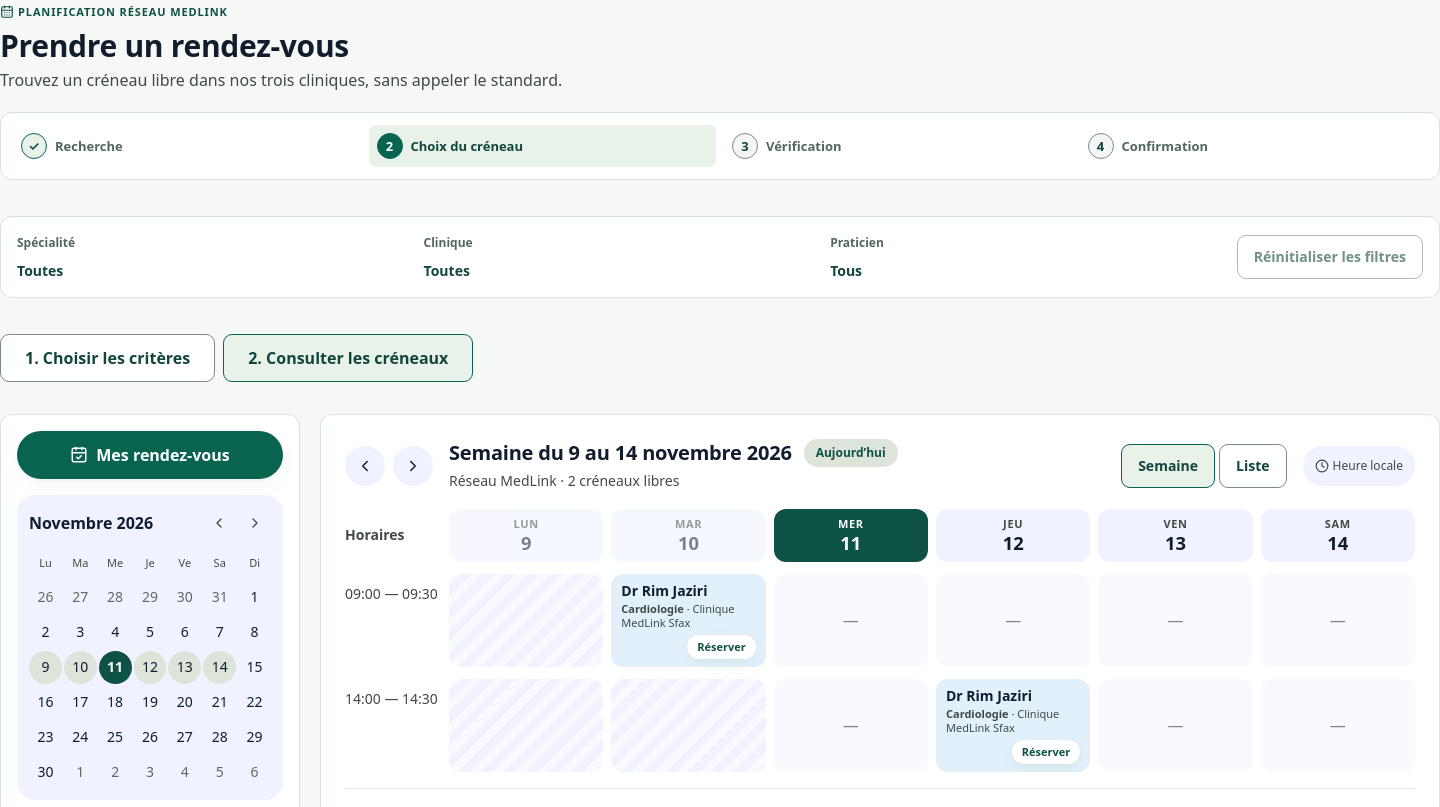
Test: "Annuler" closes the confirmation and books nothing
Click the 1st button "Réserver" at (721, 647), box [687, 635, 756, 659]
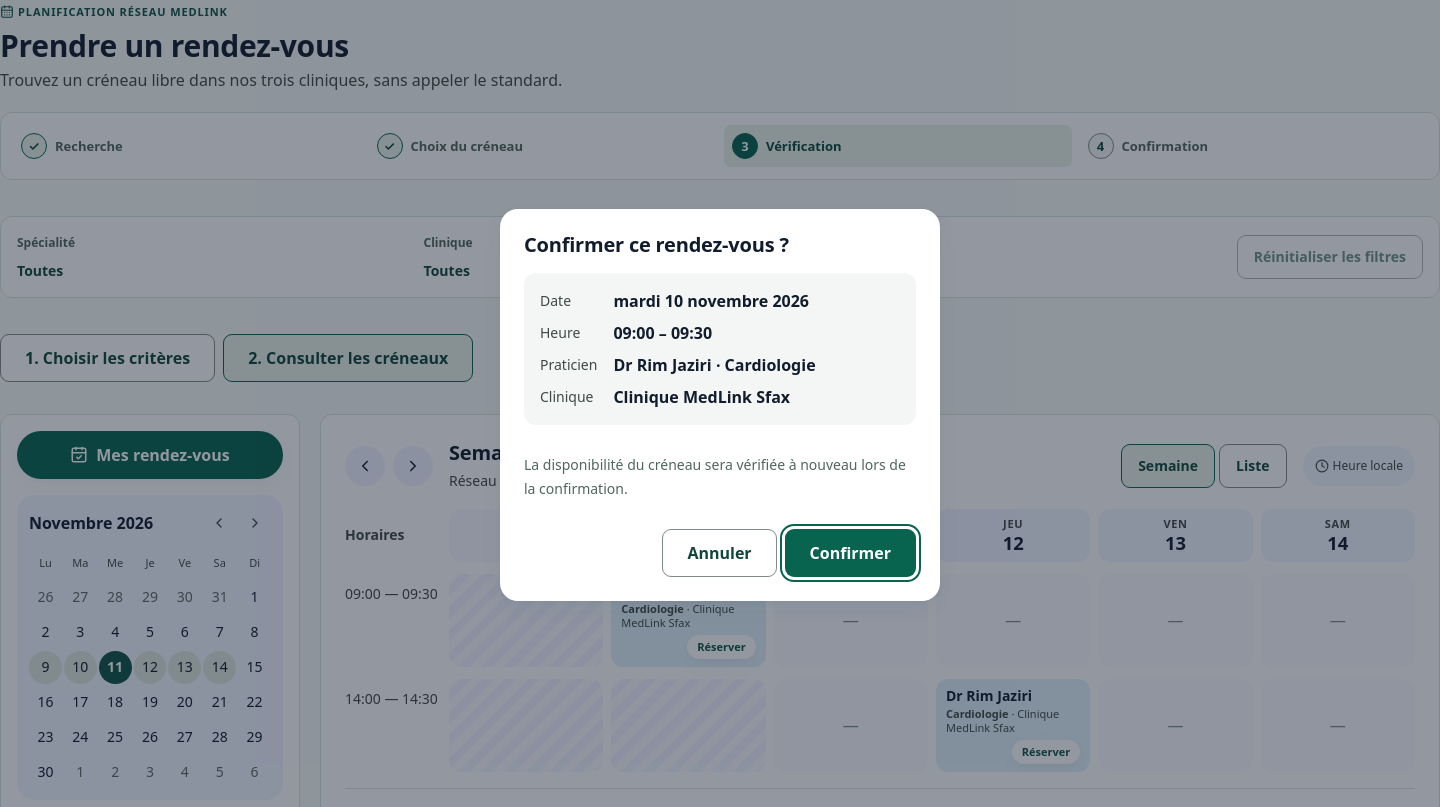
Click the button "Annuler" at (720, 553), box [662, 529, 777, 577]
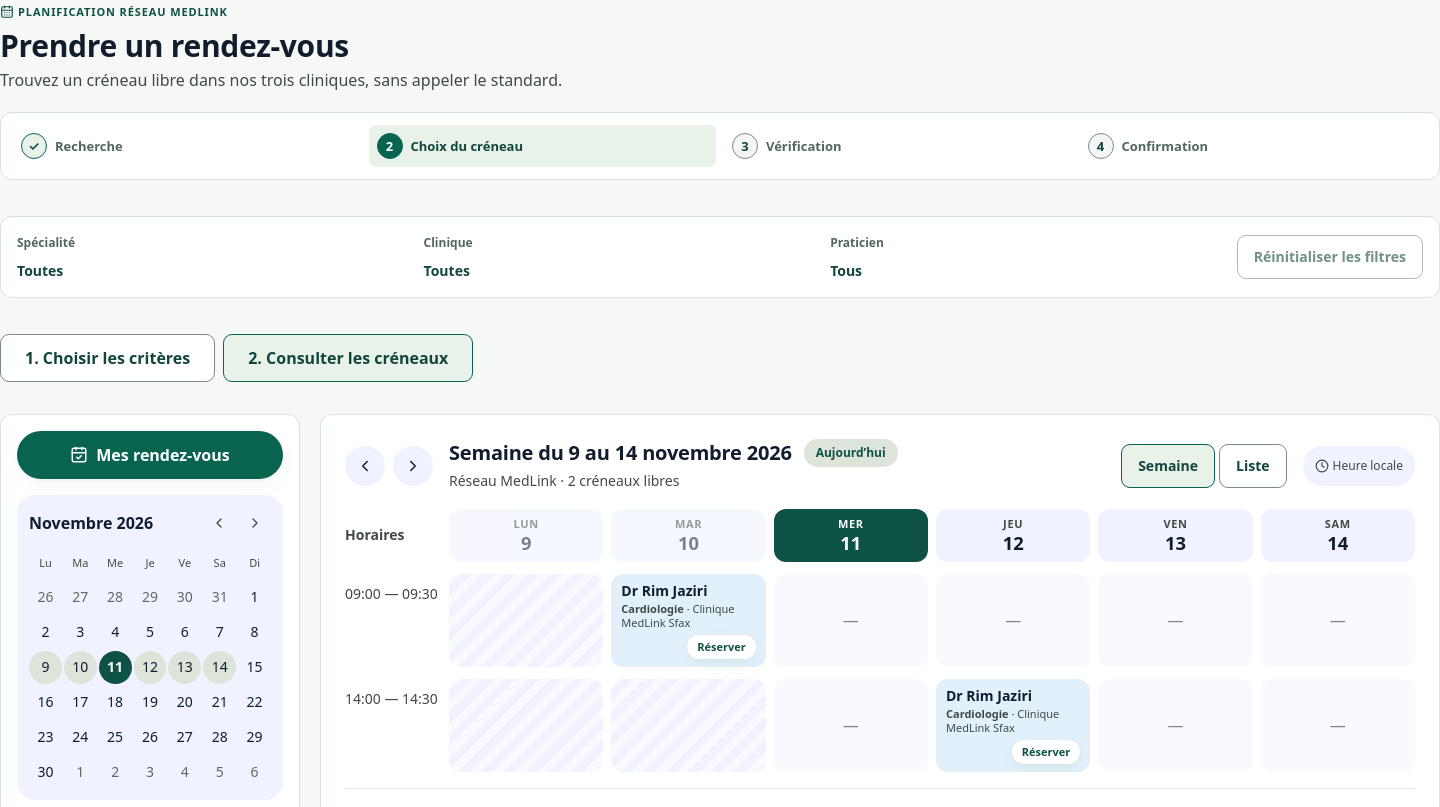
Check: the dialog is gone
